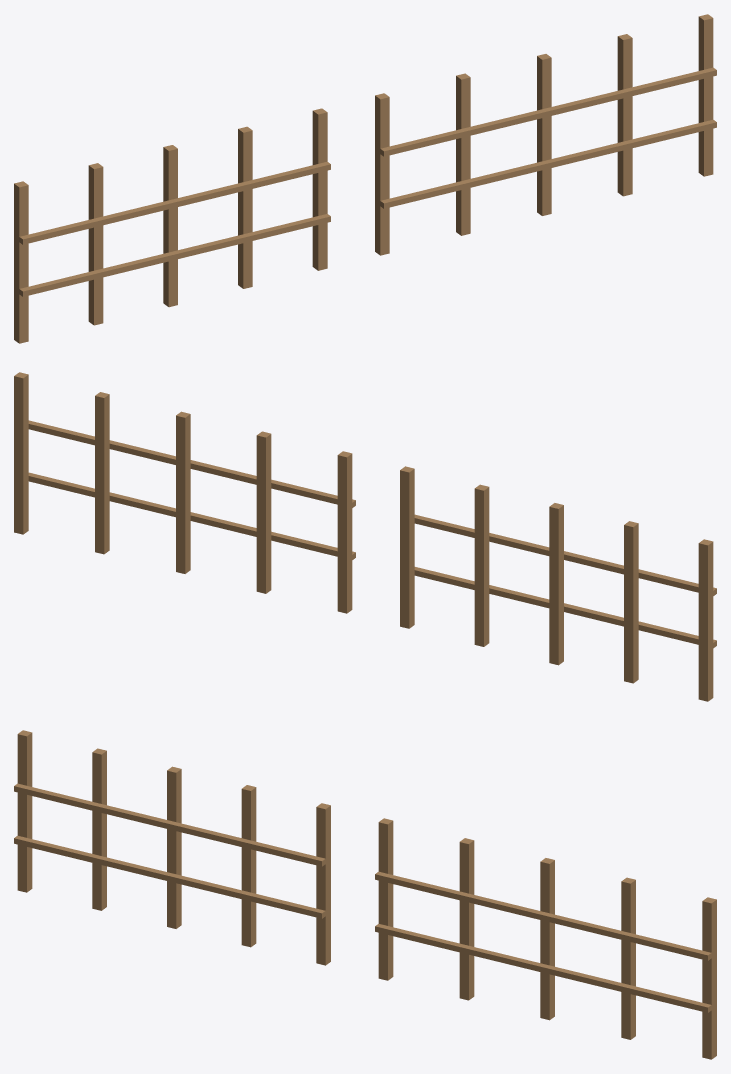
File: assembly.glb
3 views of the same model, one above another, from view 1: azimuth 30°, elevation 25°; view 2: azimuth 150°, elevation 25°; view 3: azimuth 330°, elevation 25° (orthographic).
Parts seen in each view (by area): view 1: U02_Rail_002, U02_Rail_001, U01_Rail_001, U01_Rail_002, U02_Post_004, U01_Post_002, U02_Post_005, U01_Post_005, U01_Post_001, U02_Post_001, U01_Post_003, U01_Post_004 (+2 smaller); view 2: U02_Rail_002, U02_Rail_001, U01_Post_001, U02_Post_001, U02_Post_002, U01_Post_004, U01_Post_002, U02_Post_004, U01_Post_003, U01_Post_005, U02_Post_003, U02_Post_005 (+2 smaller); view 3: U02_Rail_001, U02_Rail_002, U01_Rail_002, U01_Rail_001, U01_Post_001, U01_Post_004, U02_Post_002, U02_Post_001, U01_Post_005, U02_Post_005, U01_Post_002, U02_Post_003 (+2 smaller).
Boxes of the visible parts, x1,y1,x2,y2 form: U02_Rail_002: [380, 67, 716, 156]; U02_Rail_001: [380, 119, 716, 208]; U01_Rail_001: [19, 214, 330, 296]; U01_Rail_002: [19, 161, 330, 244]; U02_Post_004: [617, 34, 632, 196]; U01_Post_002: [88, 163, 103, 325]; U02_Post_005: [698, 14, 713, 176]; U01_Post_005: [312, 108, 327, 270]; U01_Post_001: [14, 181, 28, 343]; U02_Post_001: [375, 93, 389, 255]; U01_Post_003: [163, 145, 177, 307]; U01_Post_004: [238, 126, 252, 288]; U02_Rail_002: [28, 420, 355, 507]; U02_Rail_001: [28, 472, 355, 559]; U01_Post_001: [698, 539, 713, 701]; U02_Post_001: [337, 451, 352, 613]; U02_Post_002: [256, 431, 271, 593]; U01_Post_004: [474, 484, 489, 646]; U01_Post_002: [624, 521, 638, 683]; U02_Post_004: [95, 392, 109, 554]; U01_Post_003: [549, 503, 563, 665]; U01_Post_005: [400, 466, 414, 628]; U02_Post_003: [176, 411, 190, 573]; U02_Post_005: [14, 372, 28, 534]; U02_Rail_001: [375, 923, 711, 1012]; U02_Rail_002: [375, 871, 711, 960]; U01_Rail_002: [14, 783, 325, 866]; U01_Rail_001: [14, 835, 325, 918]; U01_Post_001: [17, 730, 32, 892]; U01_Post_004: [241, 785, 256, 947]; U02_Post_002: [459, 838, 474, 1000]; U02_Post_001: [378, 818, 393, 980]; U01_Post_005: [316, 803, 330, 965]; U02_Post_005: [702, 897, 716, 1059]; U01_Post_002: [92, 748, 106, 910]; U02_Post_003: [540, 858, 554, 1020].
Size of the model in its own units: 11.15 by 2.4 by 0.249.
